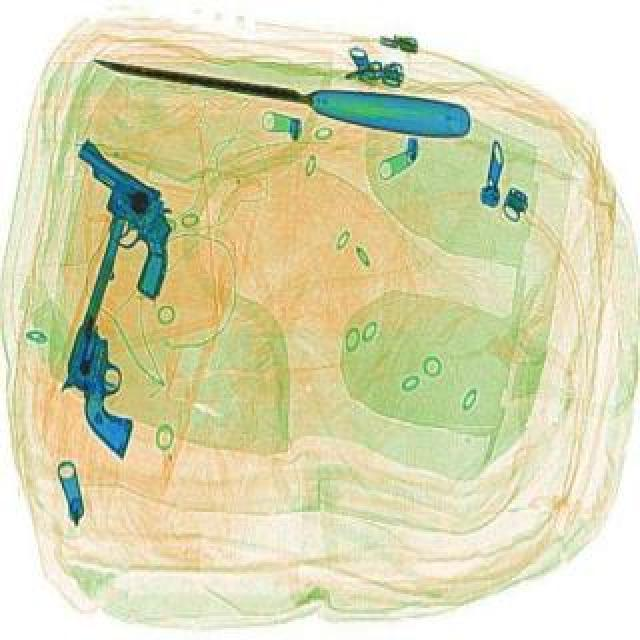gun: (42, 216, 204, 466), (26, 142, 218, 308)
knife: (90, 52, 476, 148)
